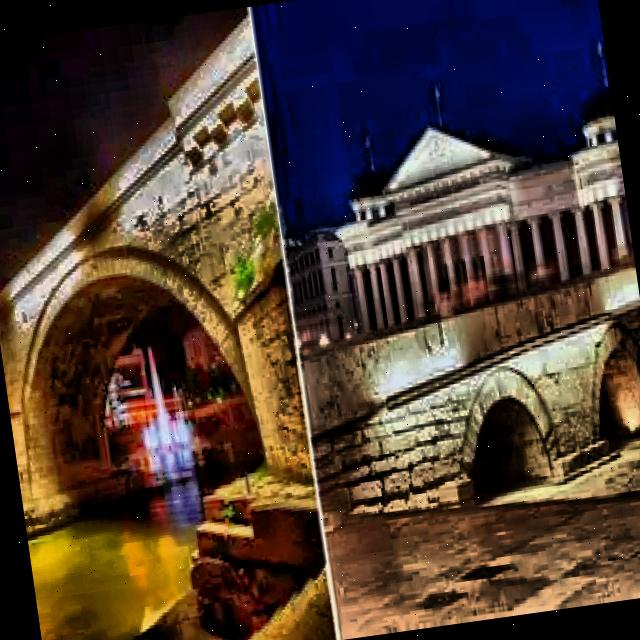stone bridge: (0, 6, 320, 545), (288, 243, 640, 545)
